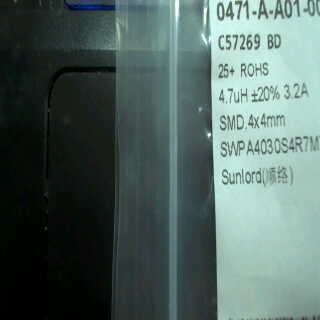4.7uH: (216, 84, 250, 107)
